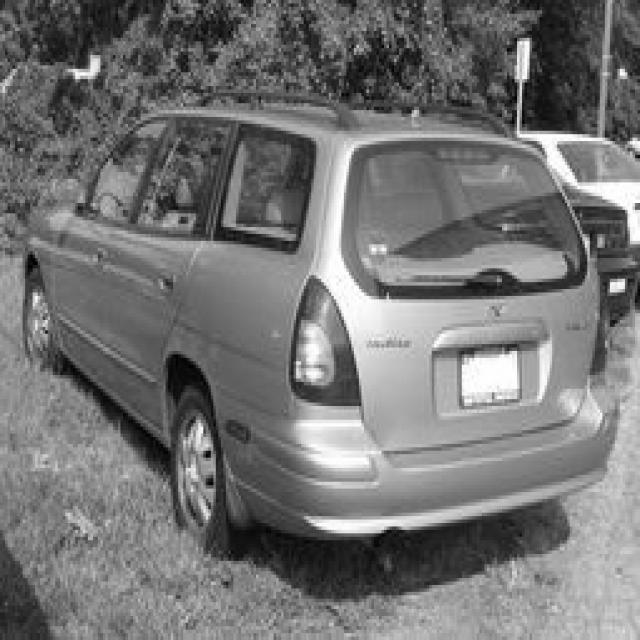car: (20, 82, 620, 558)
